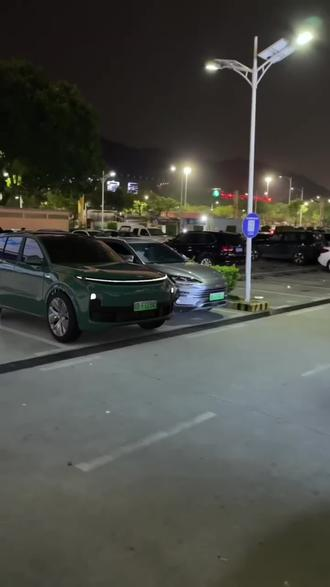other: (0, 231, 183, 346), (97, 229, 246, 320)
